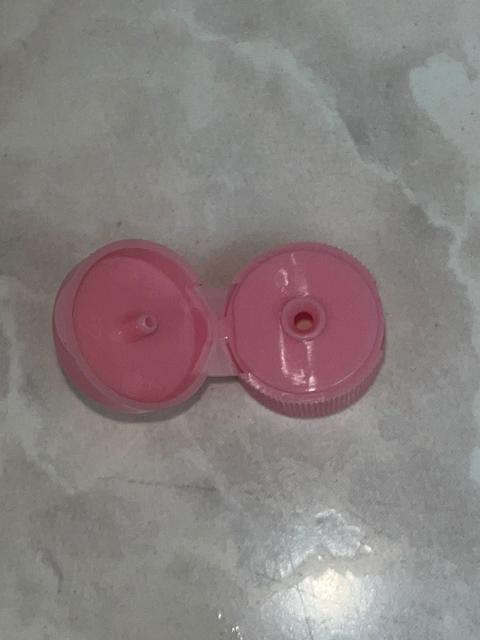HDPE: (17, 193, 435, 457)
